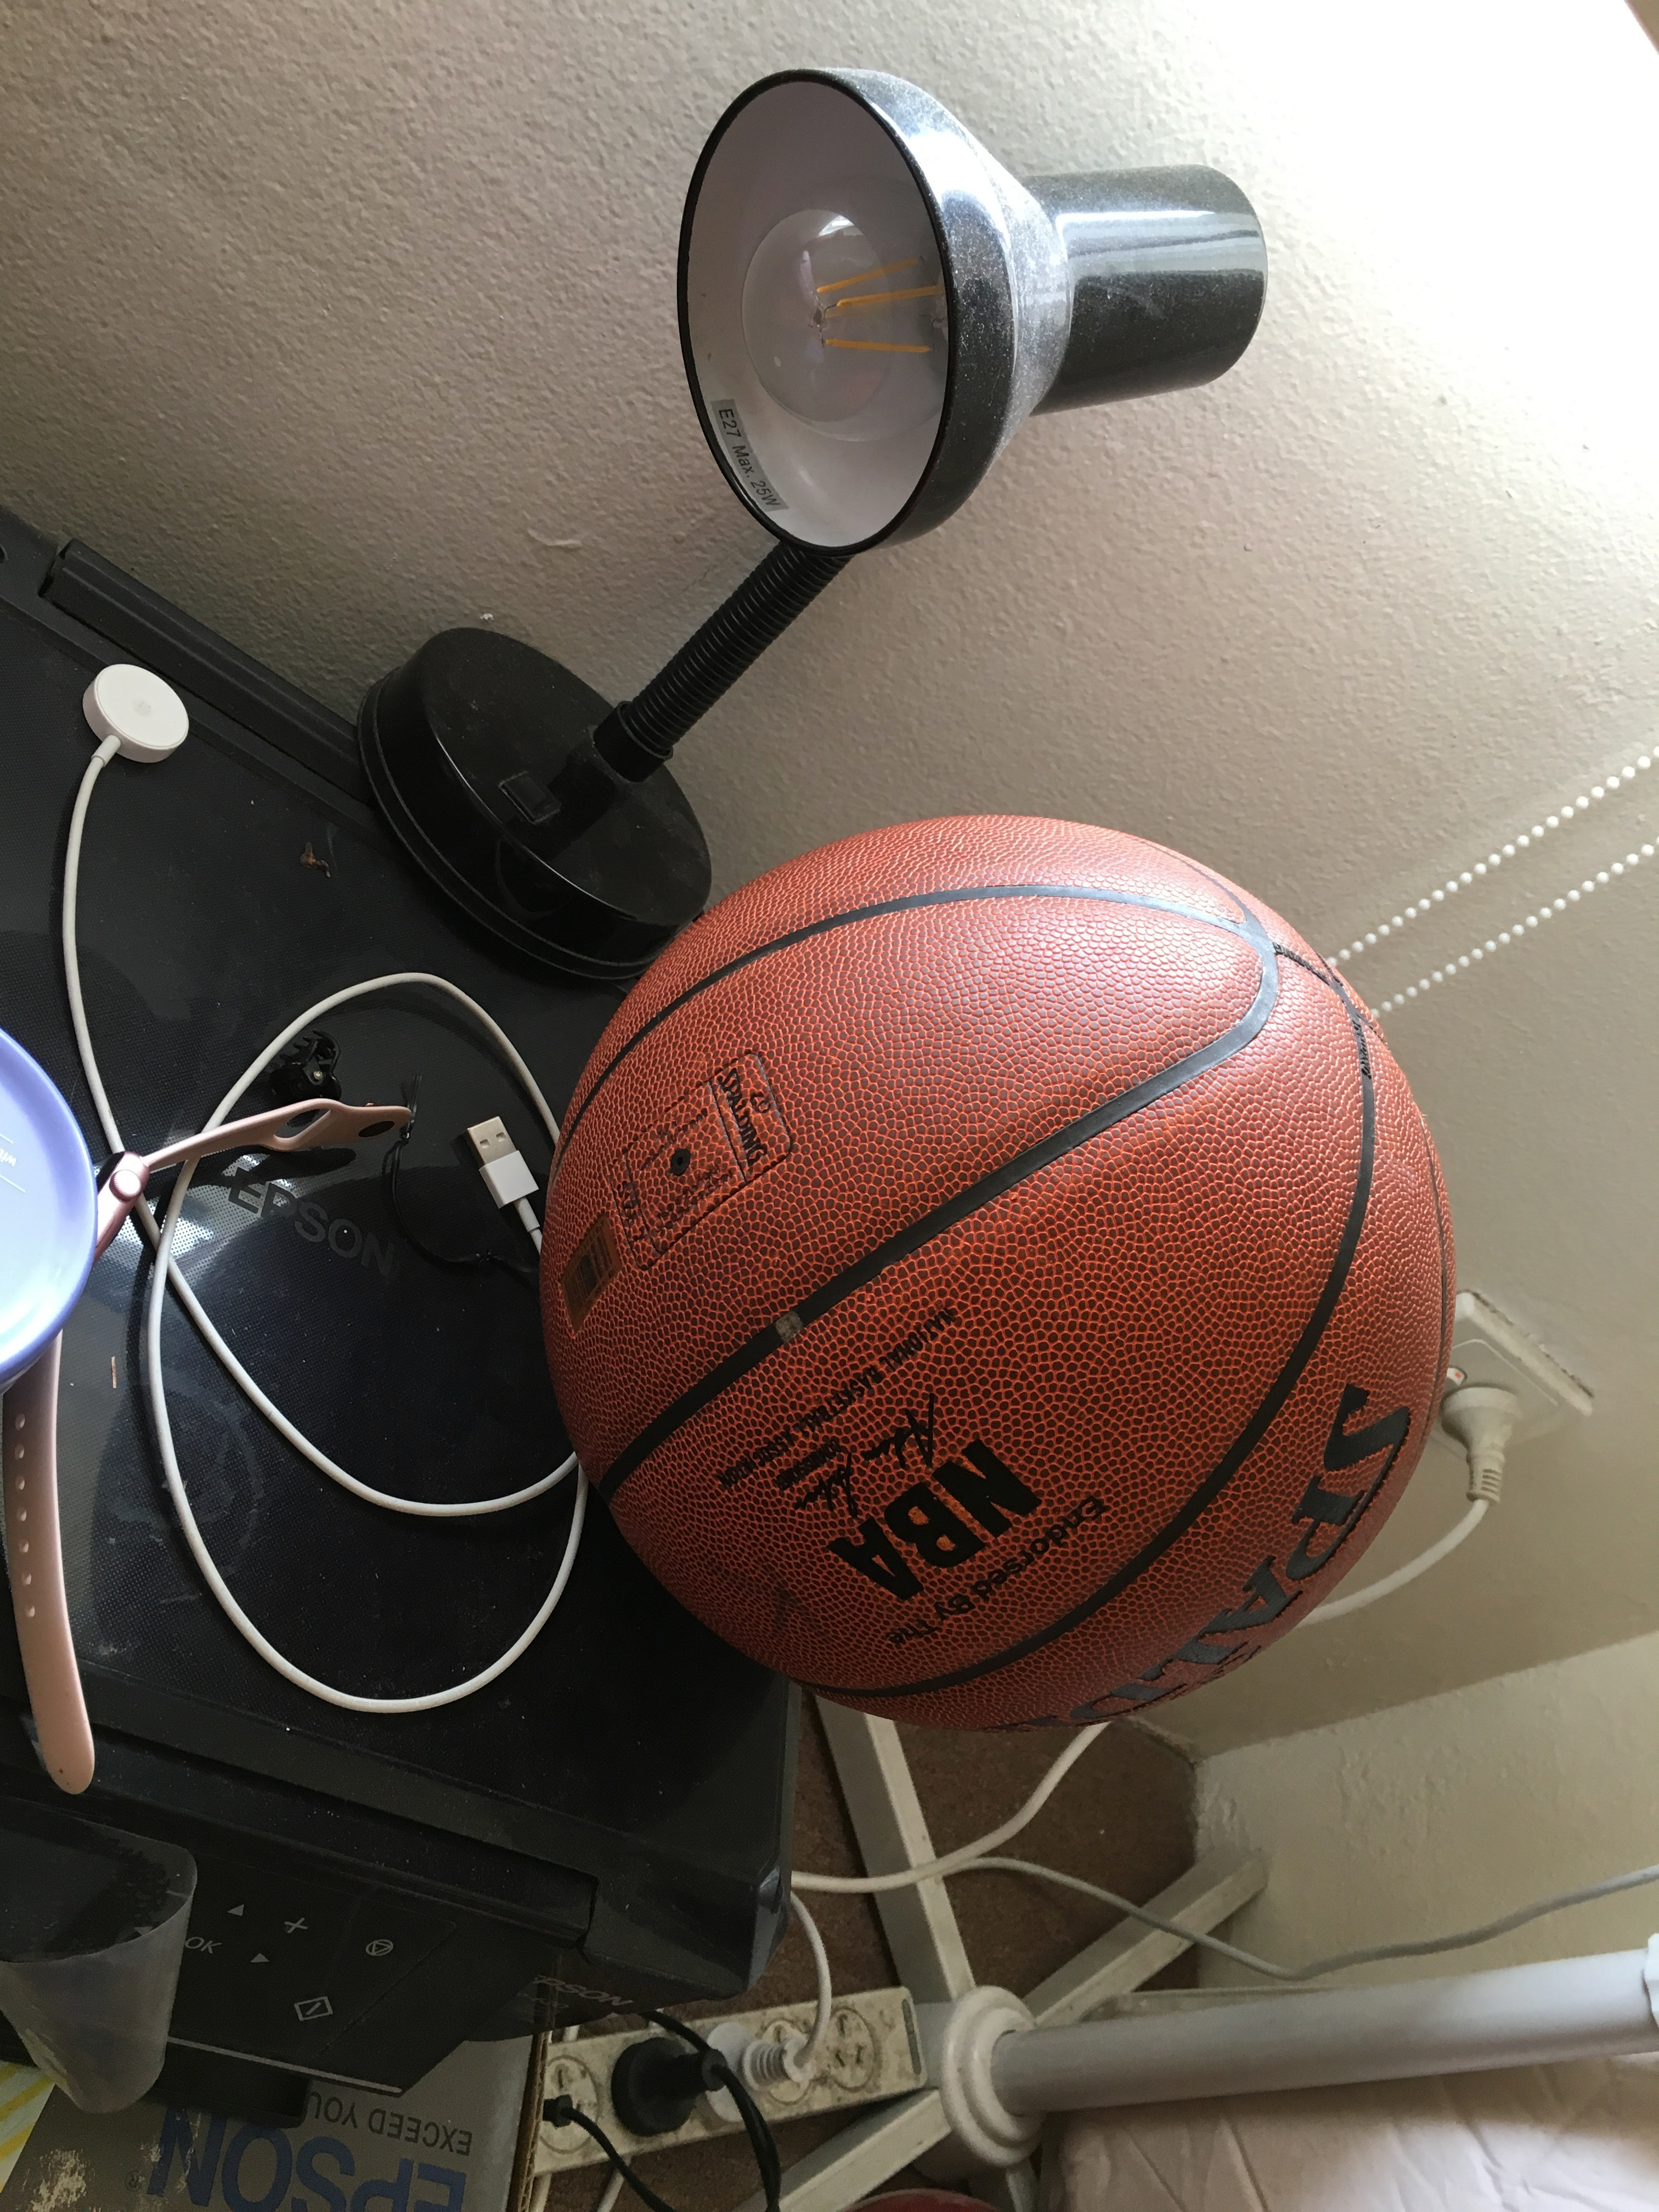Basketball: (498, 784, 1478, 1747)
